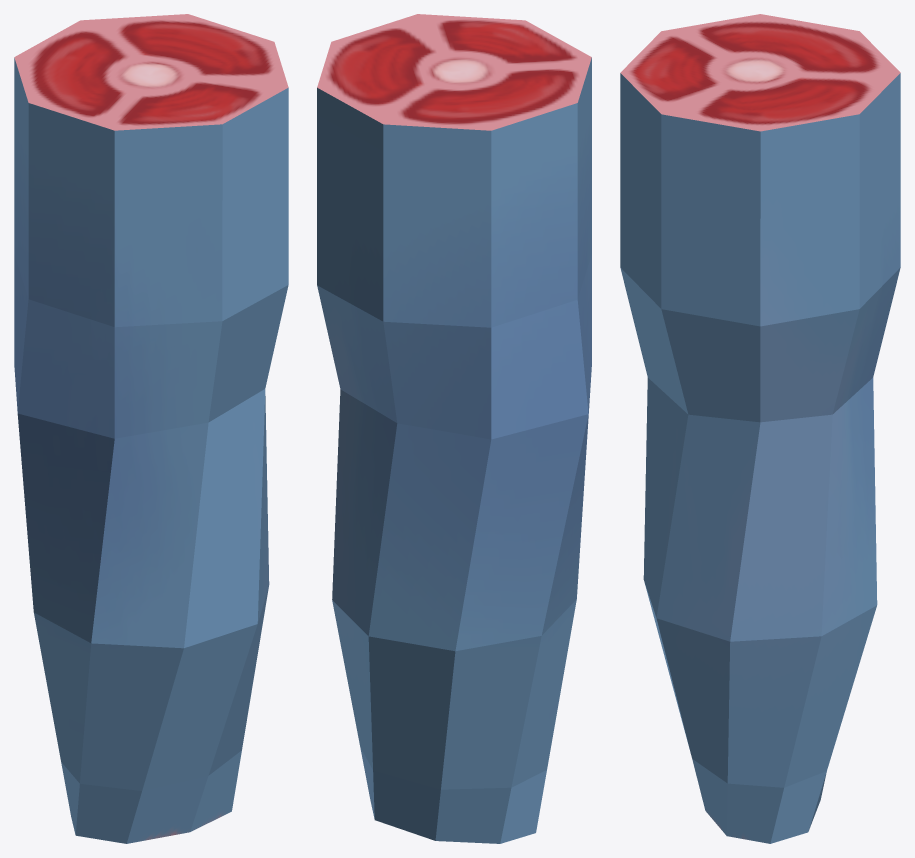
Rendered from ING_Elbow_v04.fbx.
3 views of the same model, side by side, from view 1: azimuth 30°, elevation 25°; view 2: azimuth 150°, elevation 25°; view 3: azimuth 270°, elevation 25° (orthographic).
Parts seen in each view (by area): view 1: Arm_Elbow; view 2: Arm_Elbow; view 3: Arm_Elbow.
Part boxes in pixels (left/top/right/bottom): Arm_Elbow: left=14, top=14, right=288, bottom=843; Arm_Elbow: left=317, top=14, right=591, bottom=843; Arm_Elbow: left=620, top=14, right=900, bottom=843.
Size of the model in its own units: 18.11 by 50.07 by 17.34.
